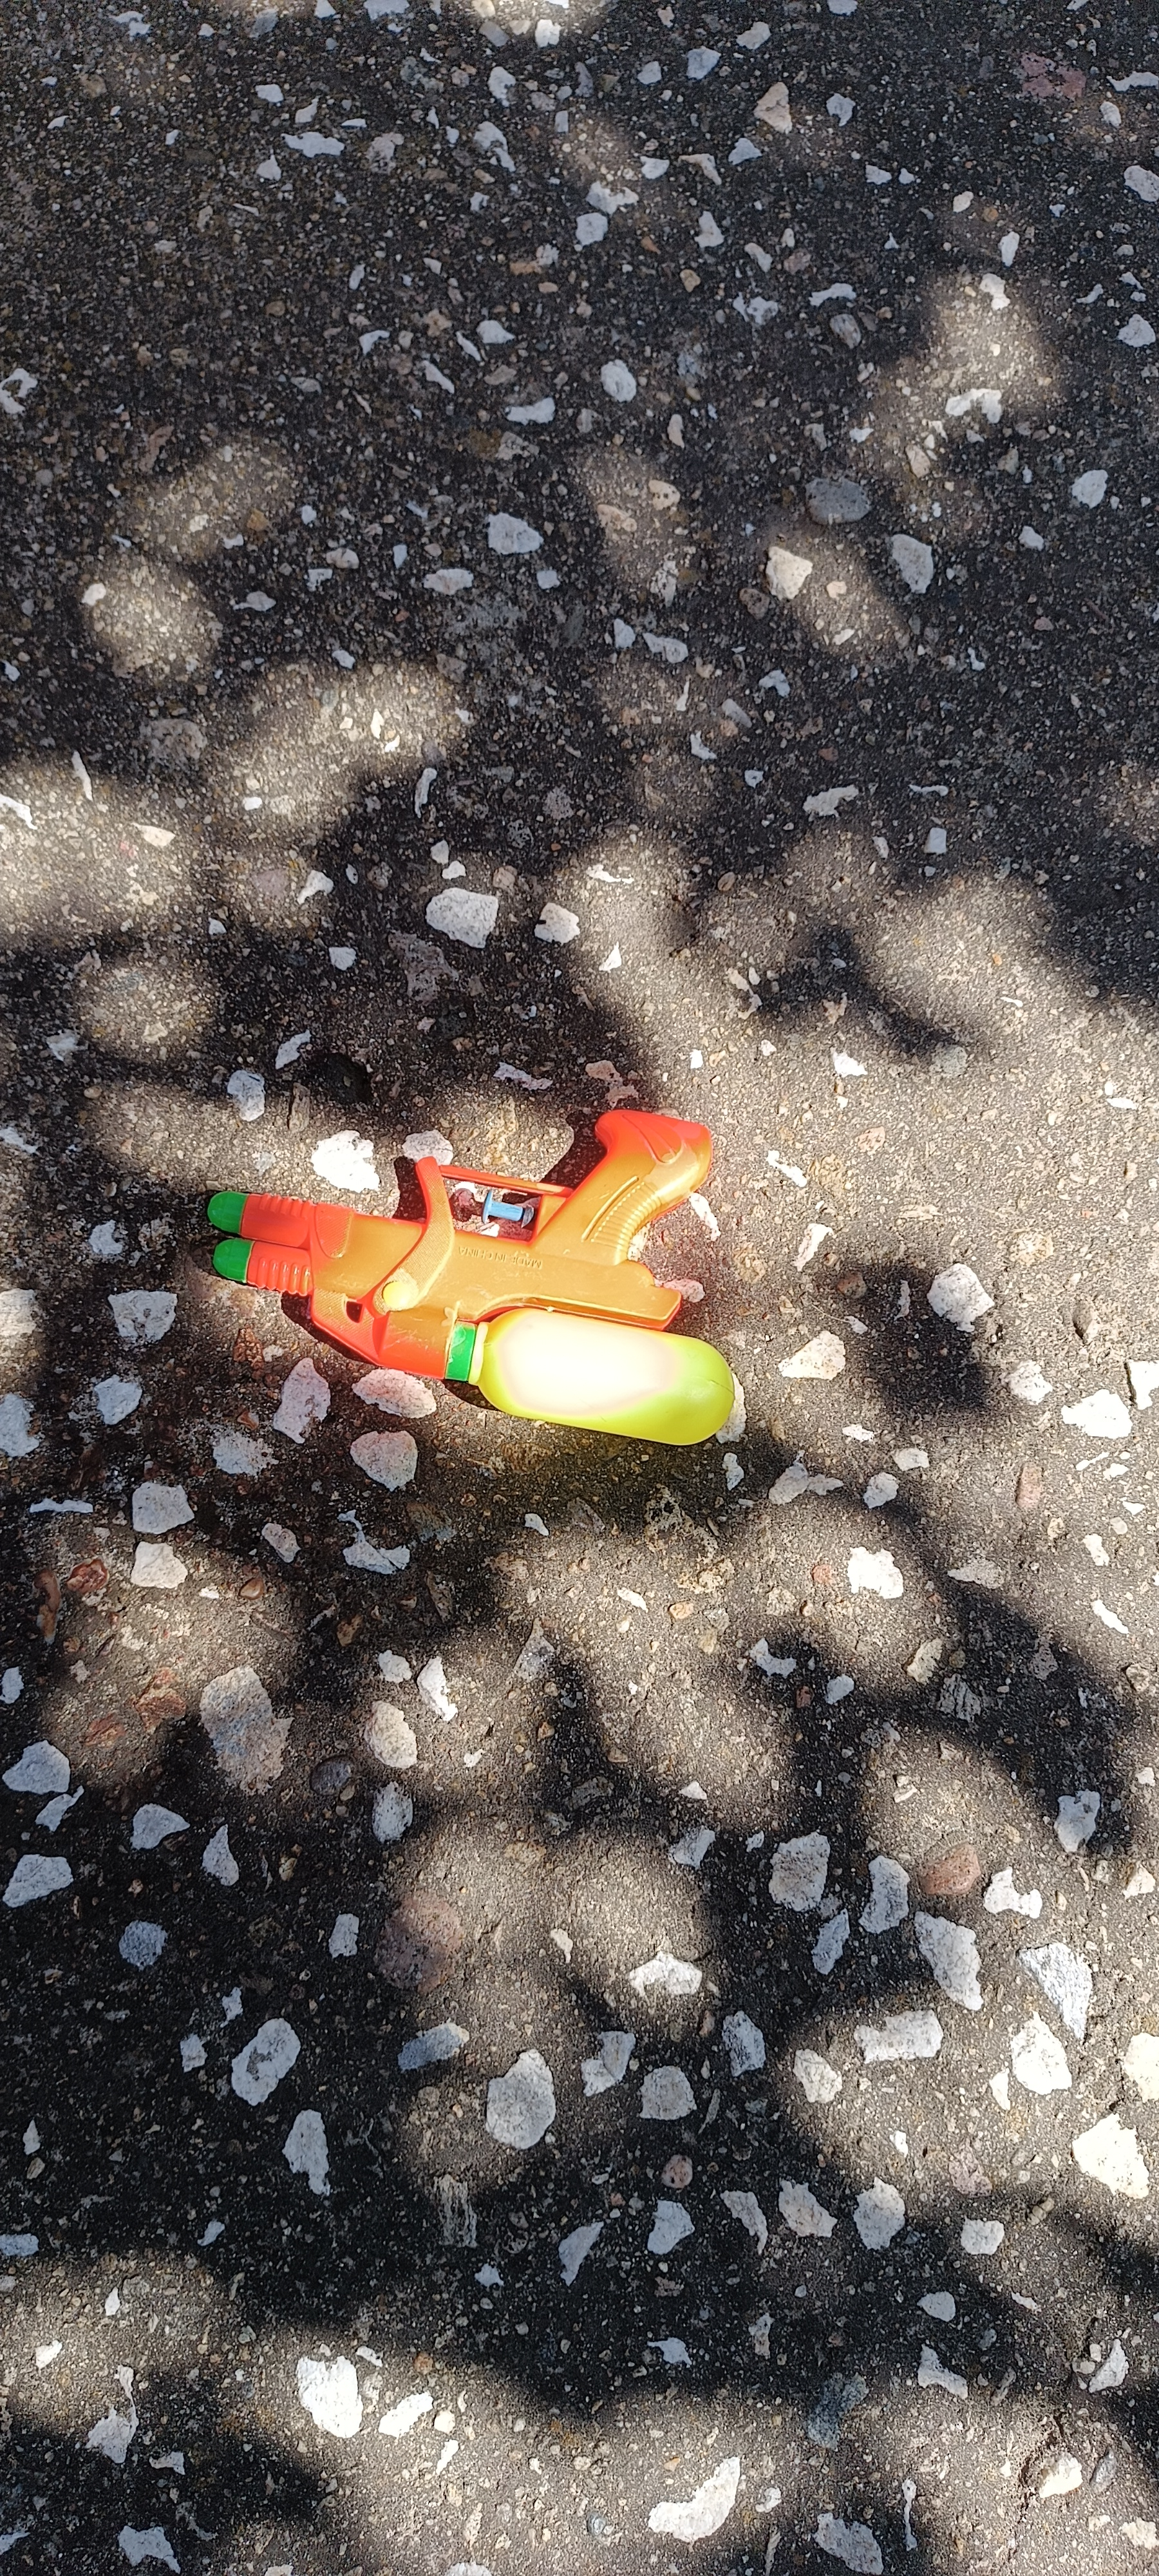Water Gun: (207, 1109, 737, 1447)
